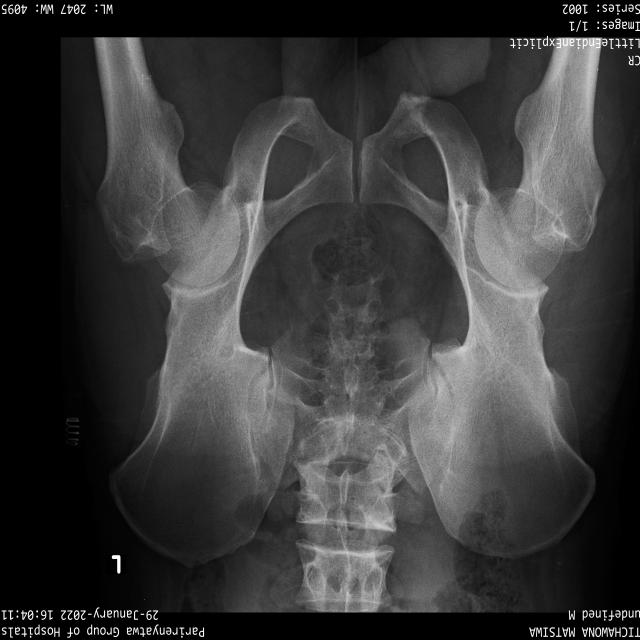normal-left: (90, 37, 240, 285)
normal-right: (474, 36, 604, 288)
